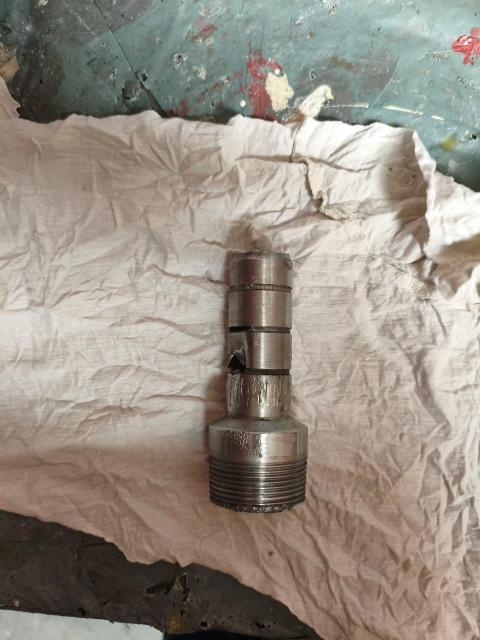Metal: (207, 250, 310, 512)
